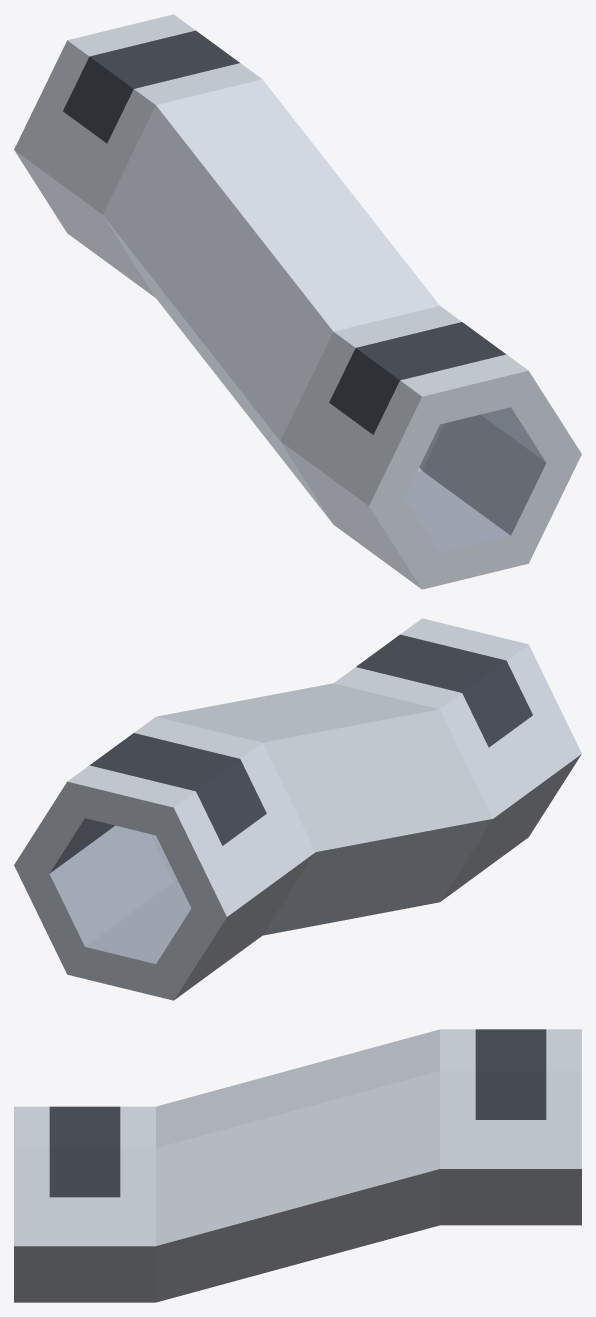
File: pipe_rampSmall.dae
3 renders of one model, top to bottom at view 1: azimuth 30°, elevation 25°; view 2: azimuth 150°, elevation 25°; view 3: azimuth 270°, elevation 25°, orthographic. The views are drawn at different scales.
Parts seen in each view (by area): view 1: pipe_rampSmall; view 2: pipe_rampSmall; view 3: pipe_rampSmall.
Part boxes in pixels (x1,y1,x2,y2): pipe_rampSmall: (14,14,581,589); pipe_rampSmall: (14,618,581,1000); pipe_rampSmall: (14,1029,581,1302).
Size of the model in its own units: 0.6928 by 0.9 by 2.
